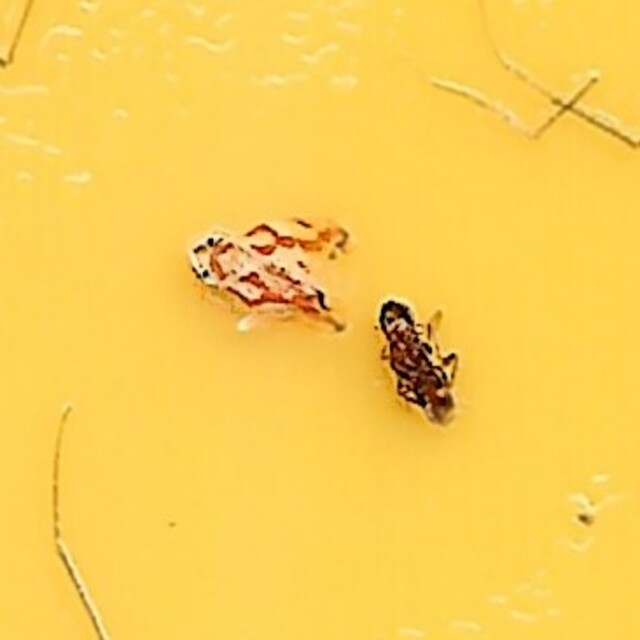Hemiptera: (175, 209, 353, 337), (369, 284, 465, 431)
